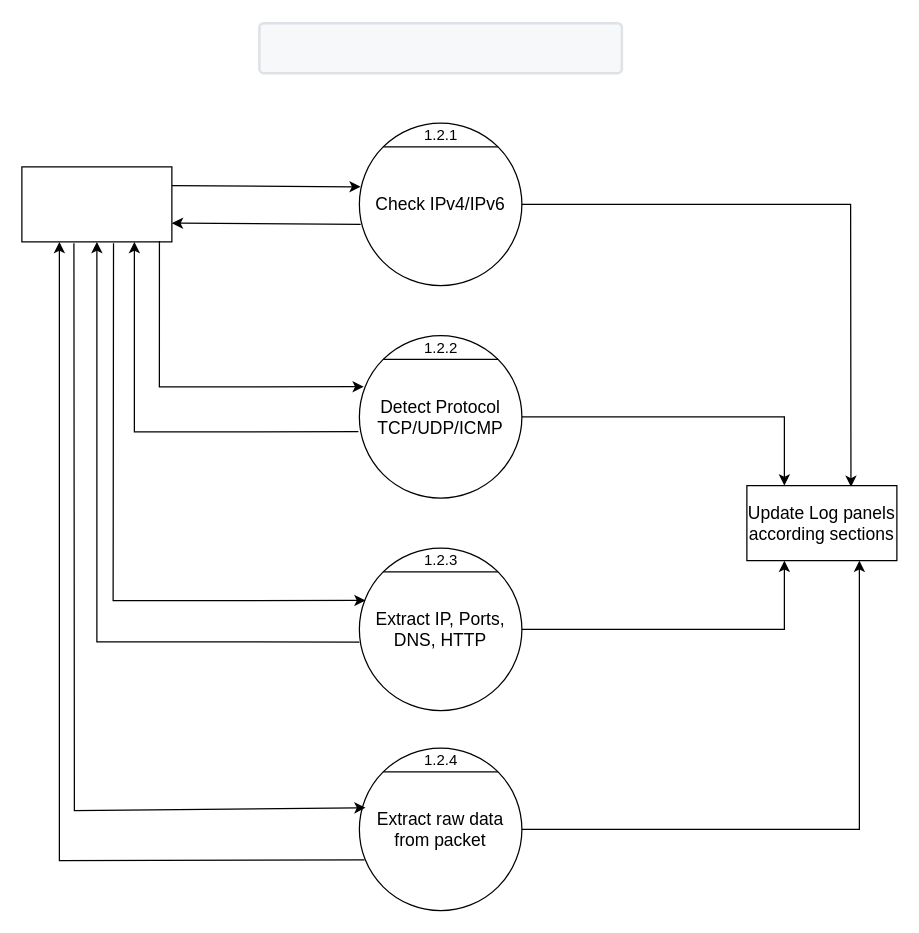
This 919x933 diagram has some shape labels left out. Each missing label, with the centre of its shape:
"Level 2 DFD for 1.2 process" goes at [440,47].
"Packet Captured" goes at [96,204].
